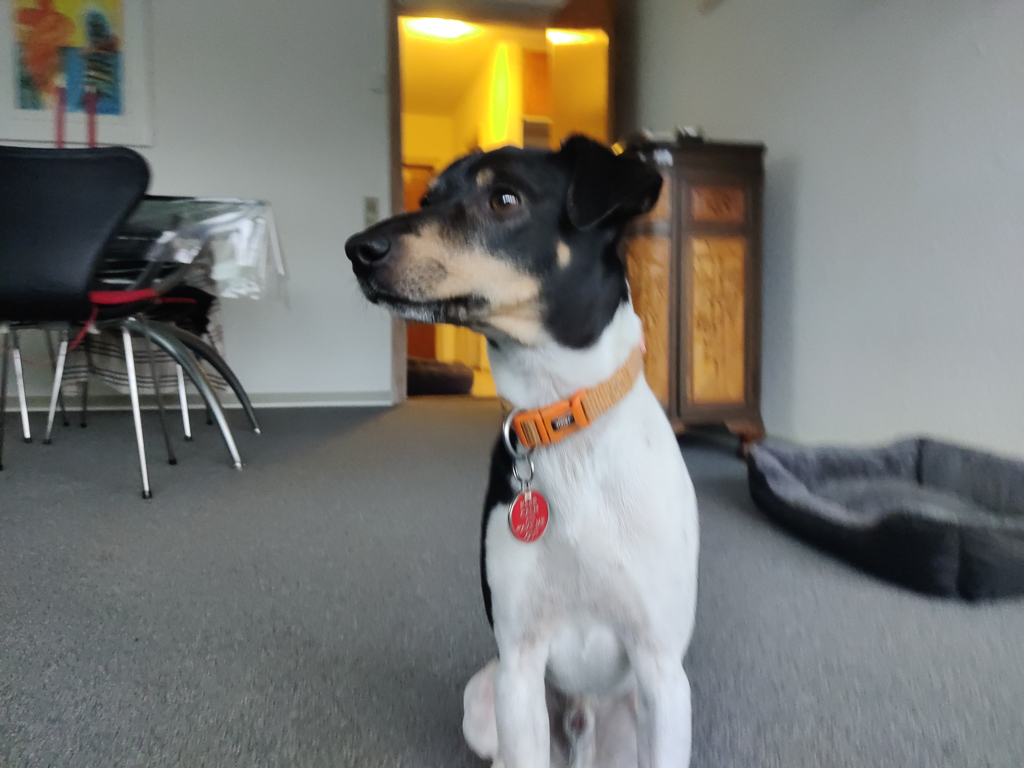Dog: (337, 114, 725, 768)
